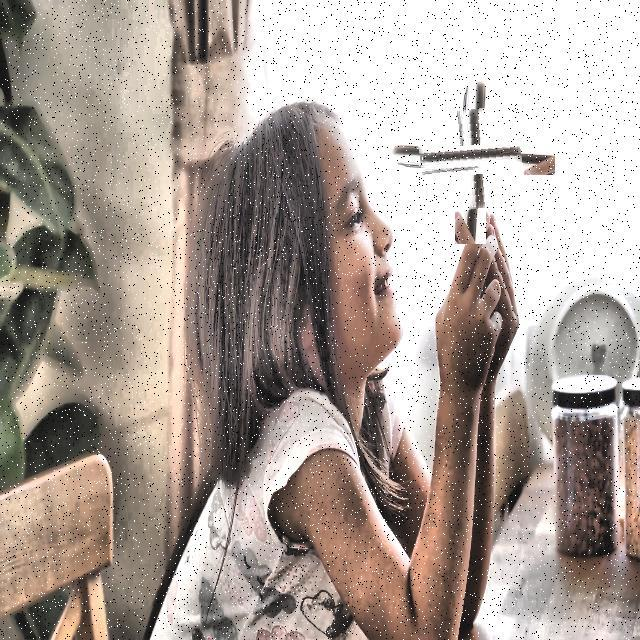Phone: (417, 106, 524, 212)
